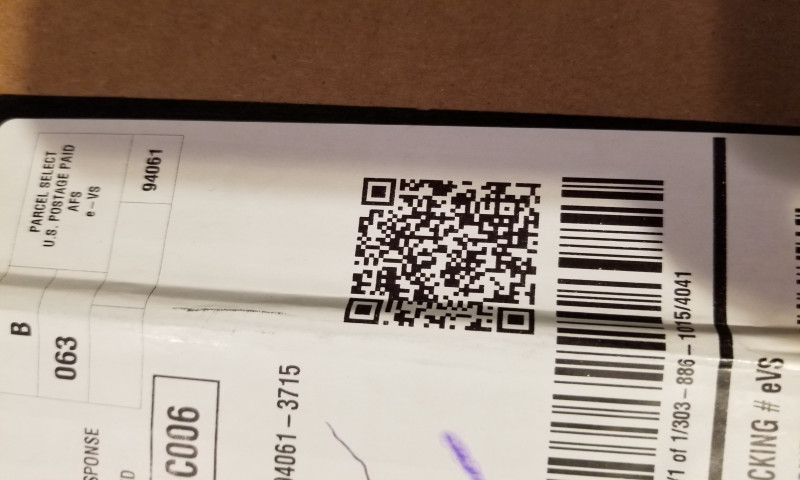QR_CODE: (333, 156, 545, 349)
